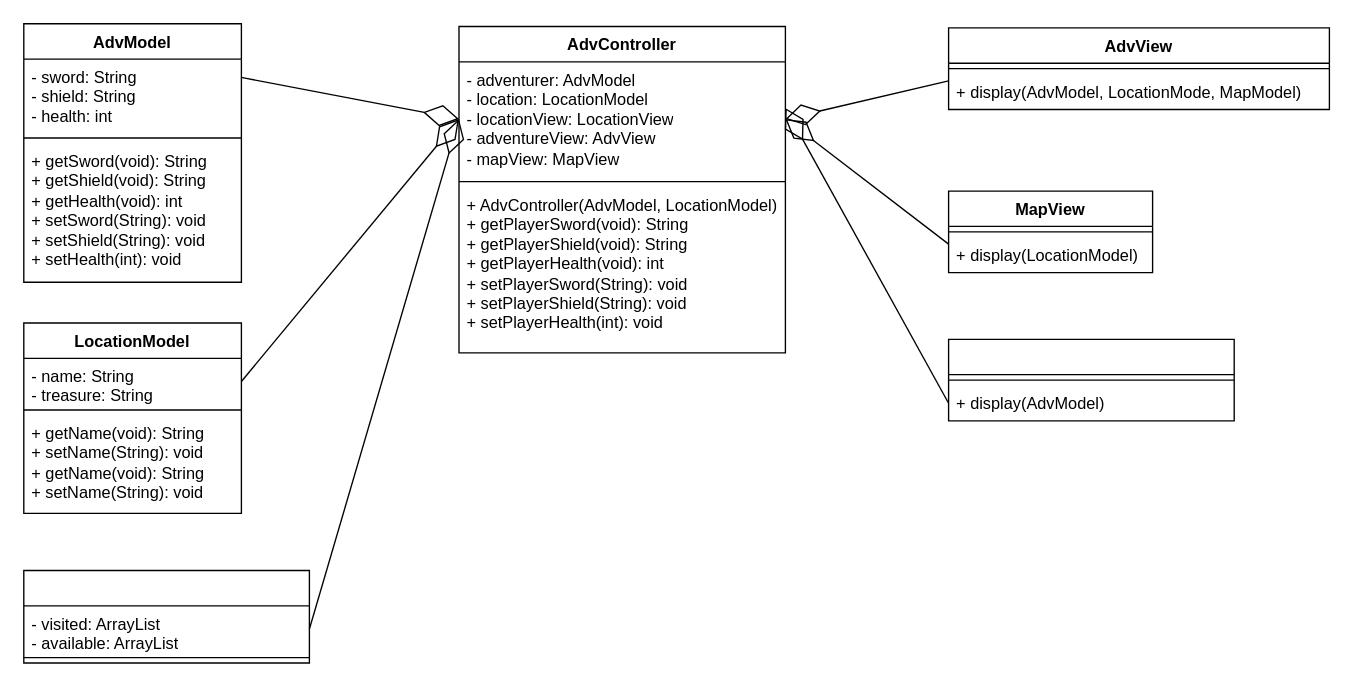
This 1353x688 diagram has some shape labels left out. The shapes that lost their labels are listed below. From the top down, each one's box as (x1, y1, x2, y2) in pixels, then its label:
(947, 338, 1234, 421): OrcFightView
(22, 569, 309, 663): MapModel
